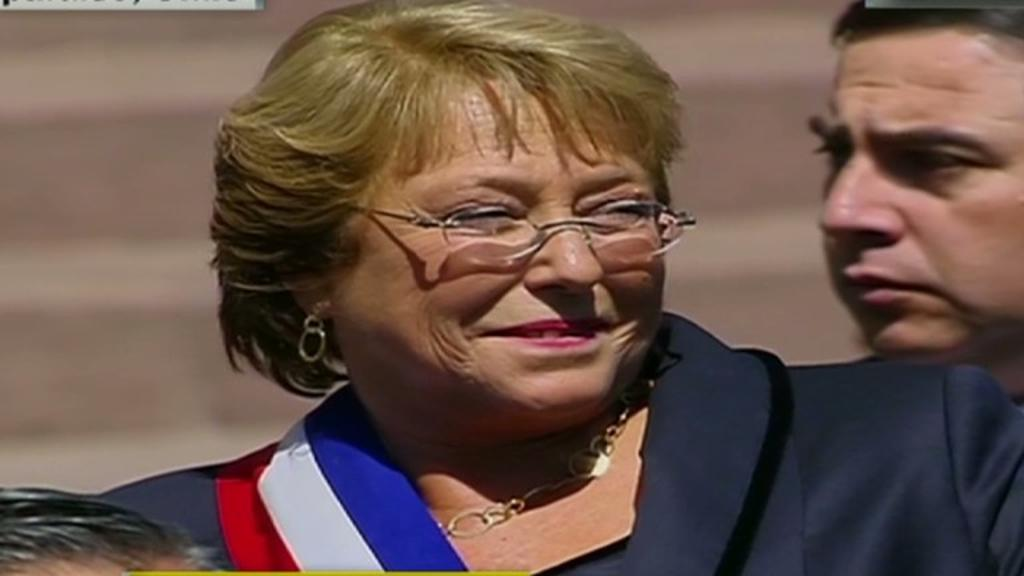face: (324, 78, 662, 406), (820, 32, 1022, 360)
